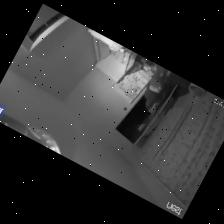person: (145, 70, 171, 109)
